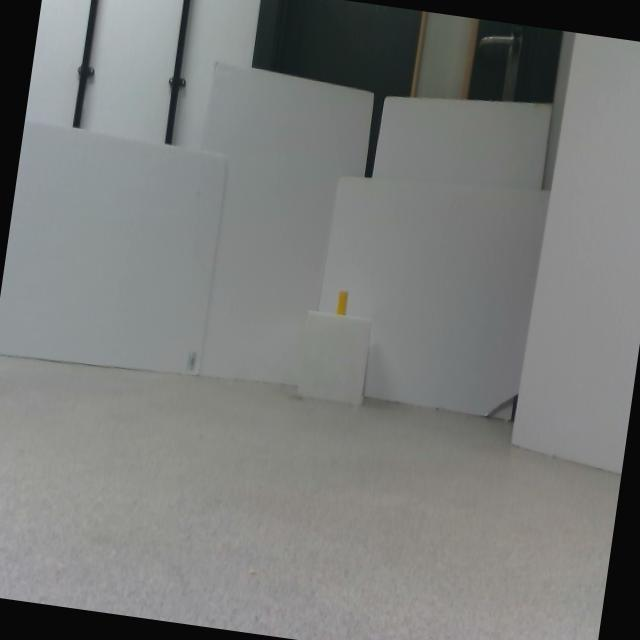yellow_cylinder: (336, 290, 349, 316)
